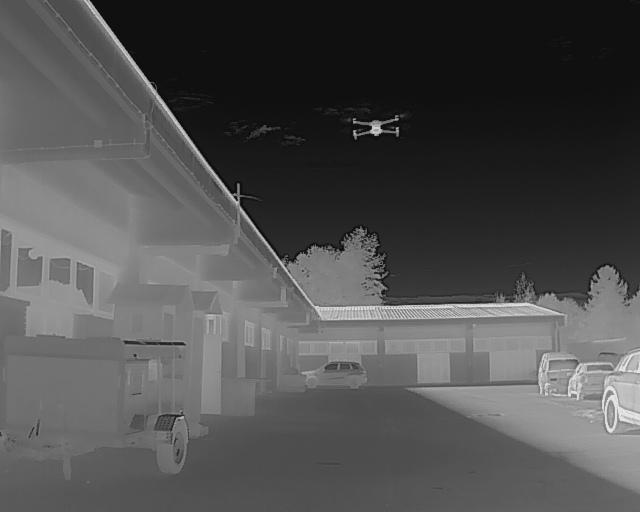drone: (335, 108, 408, 154)
